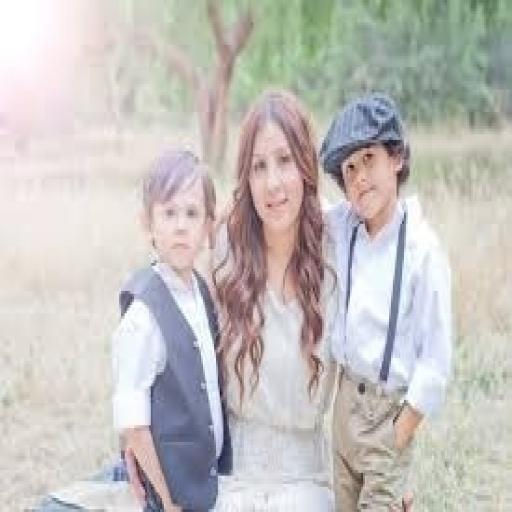hugging: (110, 84, 456, 509), (318, 90, 456, 509), (206, 87, 340, 509), (110, 146, 229, 509)
